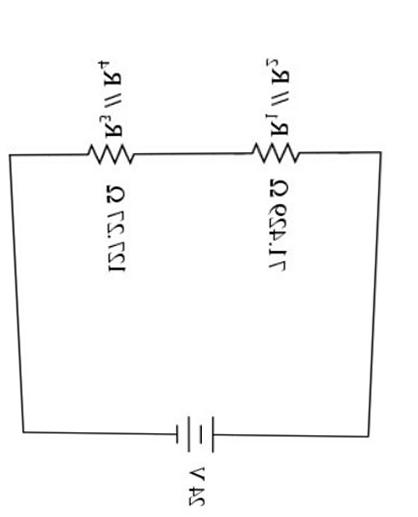resistor: (237, 130, 321, 163), (65, 135, 149, 167)
